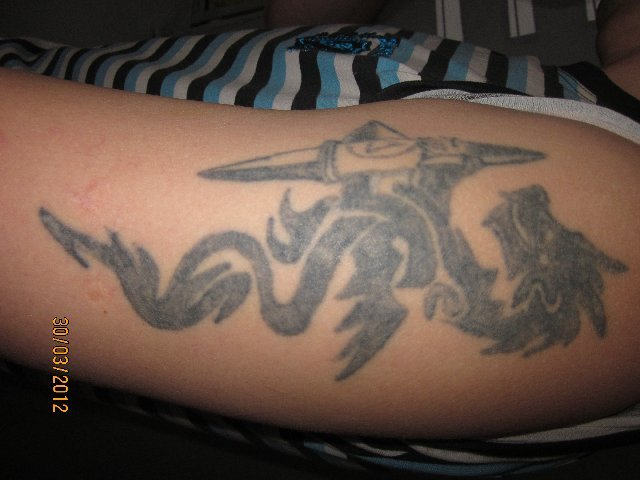tatu6_drakon: (31, 112, 640, 385)
